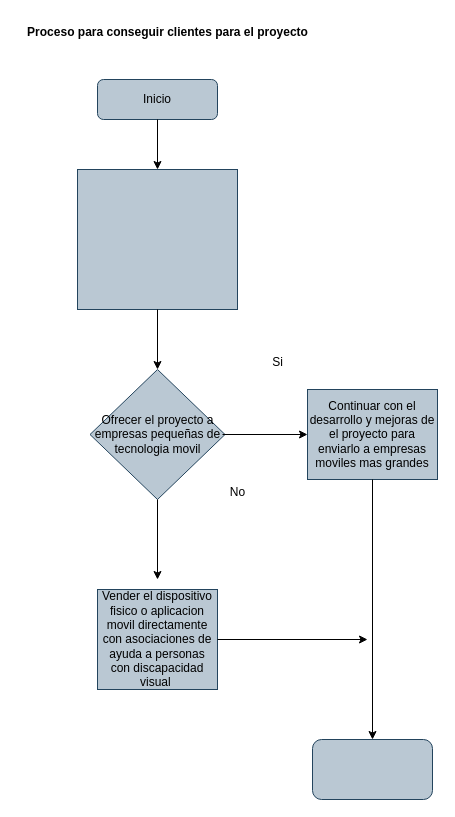
The diagram is 455 pixels wide and 817 high, and some of its shapes have lost their labels. Each missing label, with the centre of its shape:
"Fin" goes at pixel 372 769.
"Hacer publicidad de el proyecto mediante folletos y campañas locales" goes at pixel 157 239.
